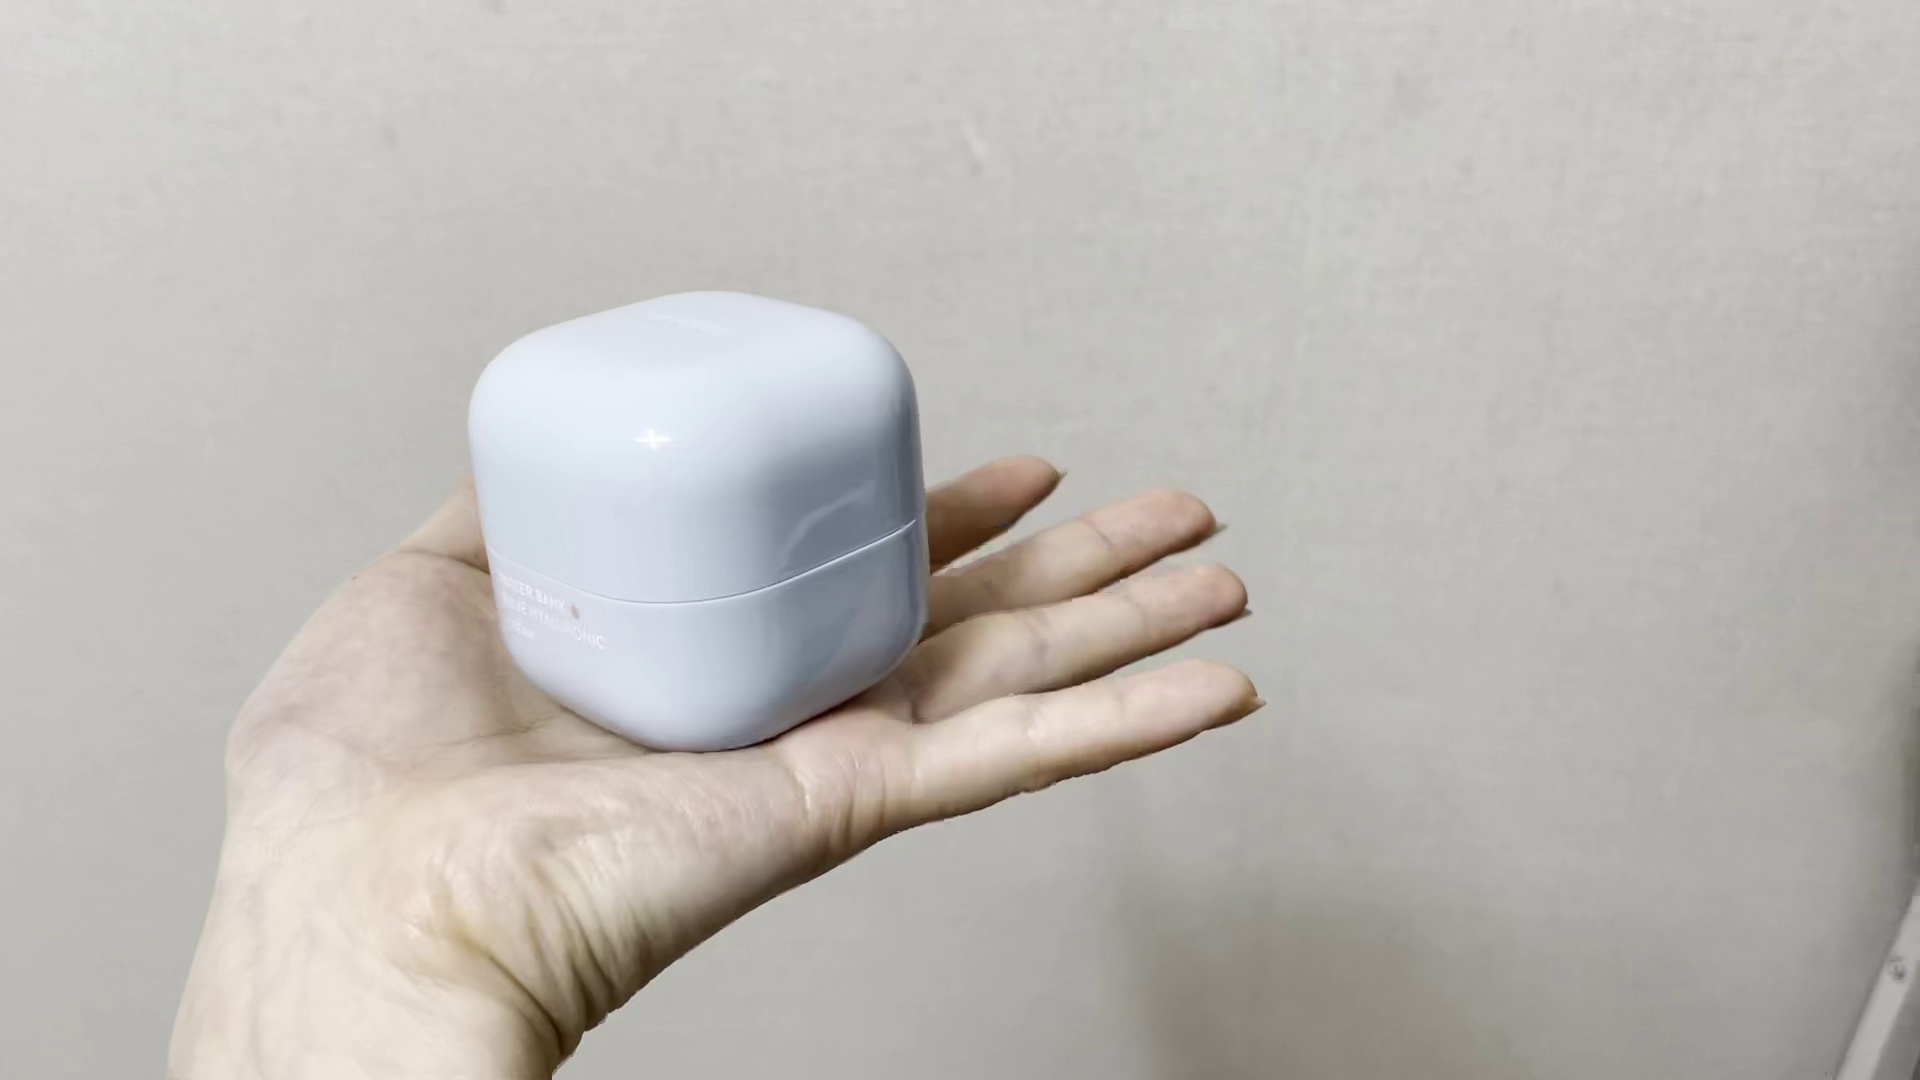cream: (467, 286, 930, 745)
